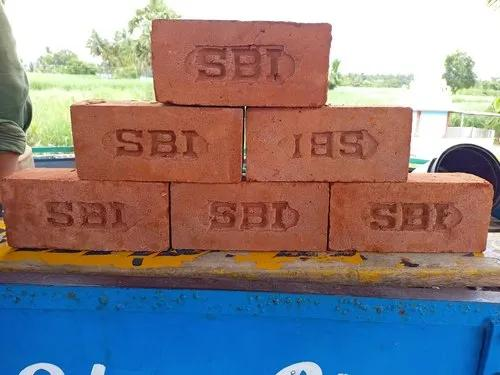brick: (151, 20, 333, 108), (71, 105, 243, 180), (243, 107, 414, 181), (328, 176, 491, 253), (169, 181, 331, 256), (6, 179, 168, 252)
